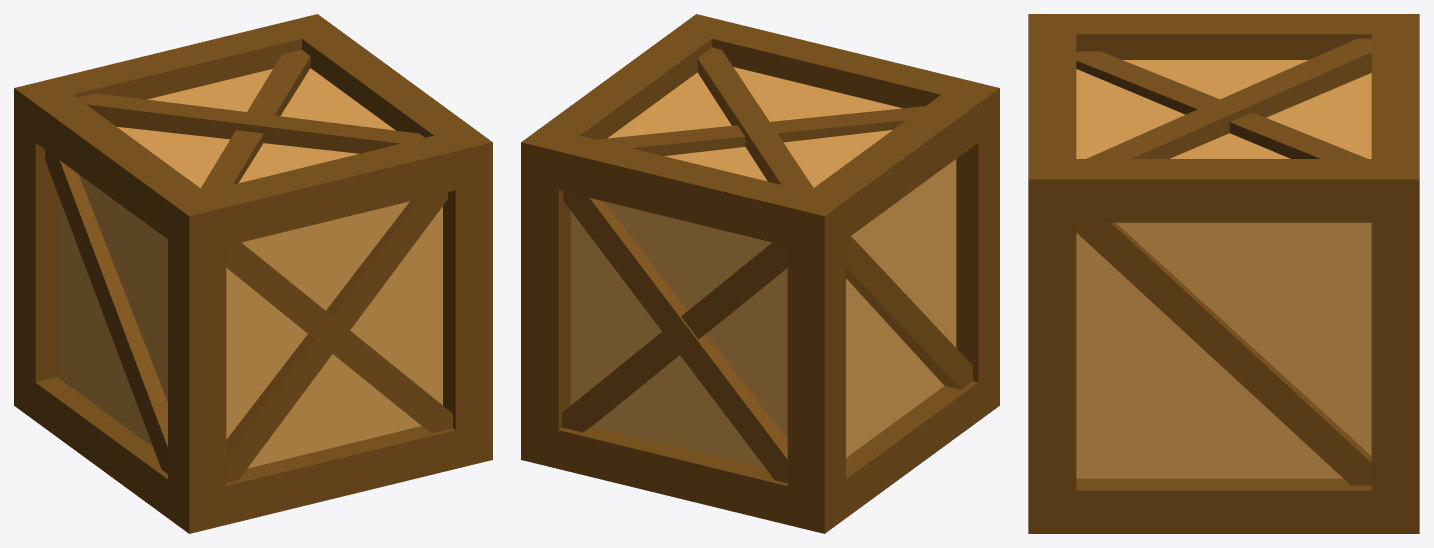
The model's file is BoxWooden_1_A.fbx.
The picture shows the model from 3 angles, left to right: view 1: azimuth 30°, elevation 25°; view 2: azimuth 150°, elevation 25°; view 3: azimuth 270°, elevation 25°; orthographic projection. The views are drawn at different scales.
Visible parts, largest first — view 1: BoxWooden_1_A; view 2: BoxWooden_1_A; view 3: BoxWooden_1_A.
Boxes of the visible parts, left/top/right/bottom form: BoxWooden_1_A: left=14, top=14, right=492, bottom=533; BoxWooden_1_A: left=521, top=14, right=999, bottom=533; BoxWooden_1_A: left=1028, top=14, right=1419, bottom=533.
Size of the model in its own units: 97.11 by 97.11 by 97.11.
